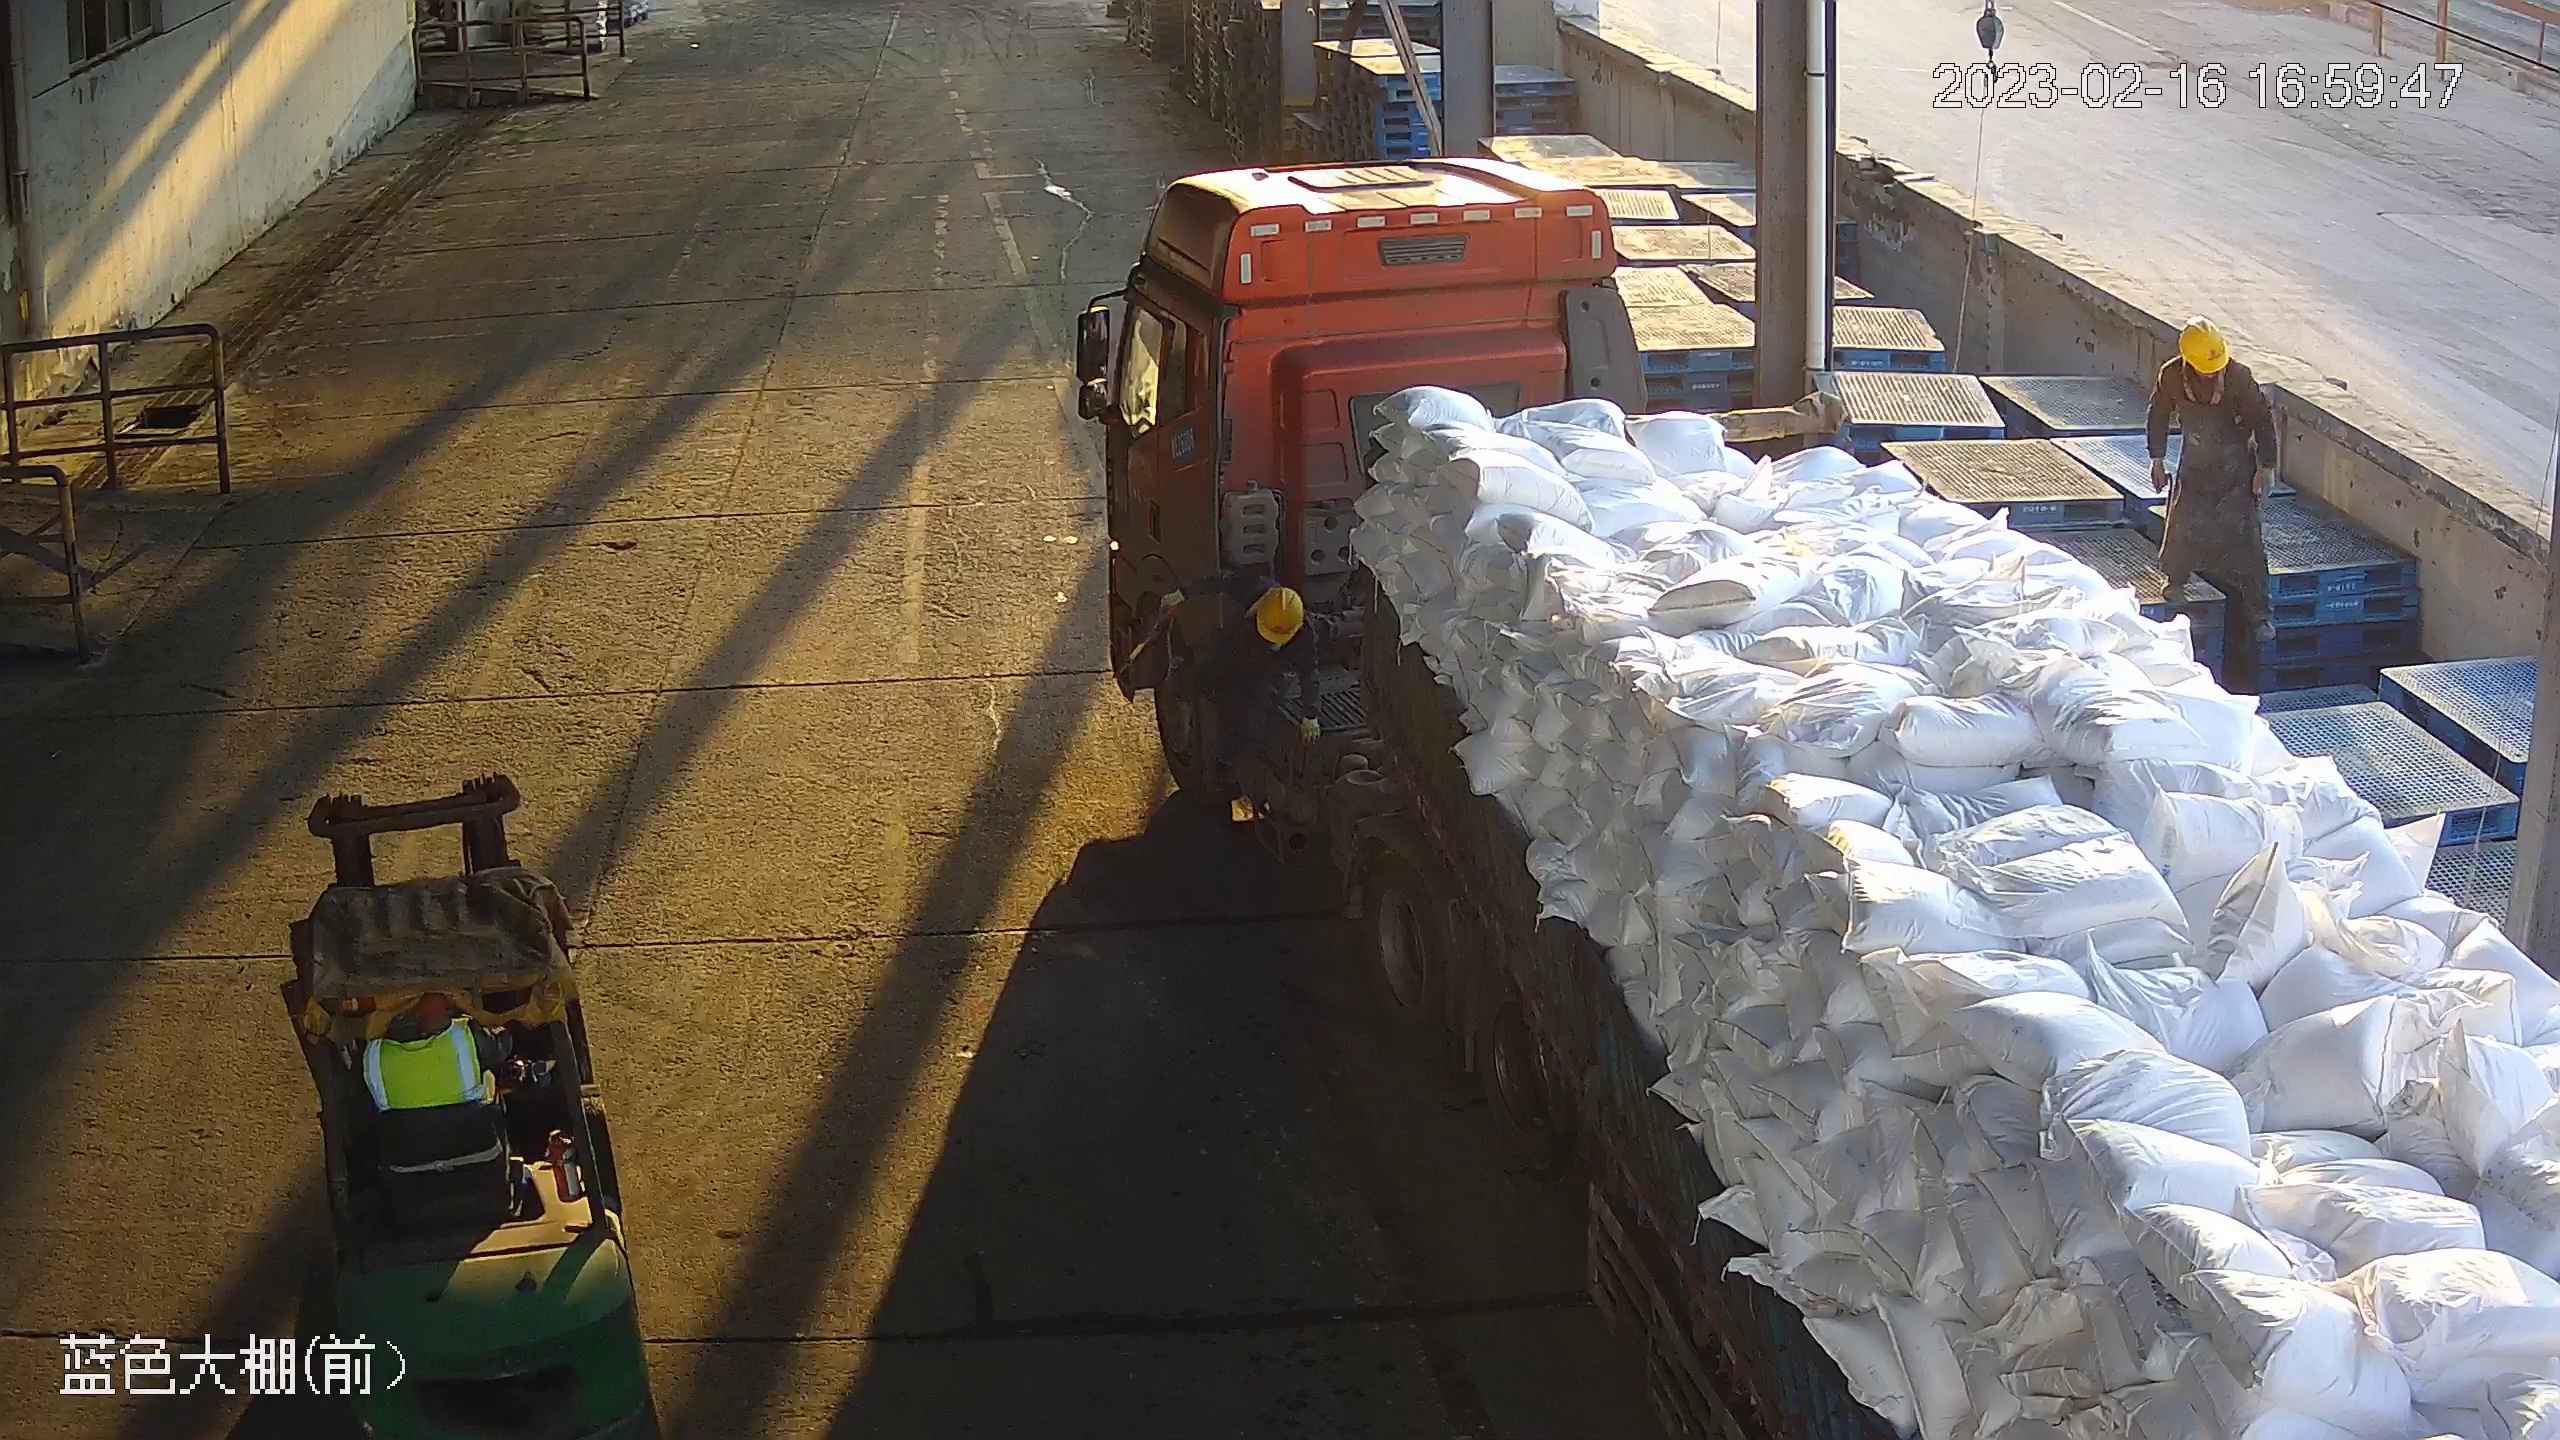belt: (2183, 372, 2235, 402)
head: (2151, 320, 2267, 409), (1223, 571, 1323, 665)
helmet: (2169, 320, 2228, 378), (1249, 588, 1307, 641)
people: (2144, 320, 2293, 646), (1162, 565, 1337, 830)
truck: (1063, 164, 2560, 1440)
